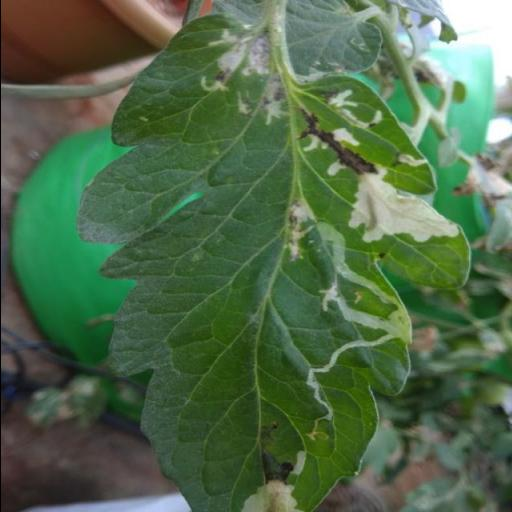disease_tomato: (75, 10, 469, 512)
